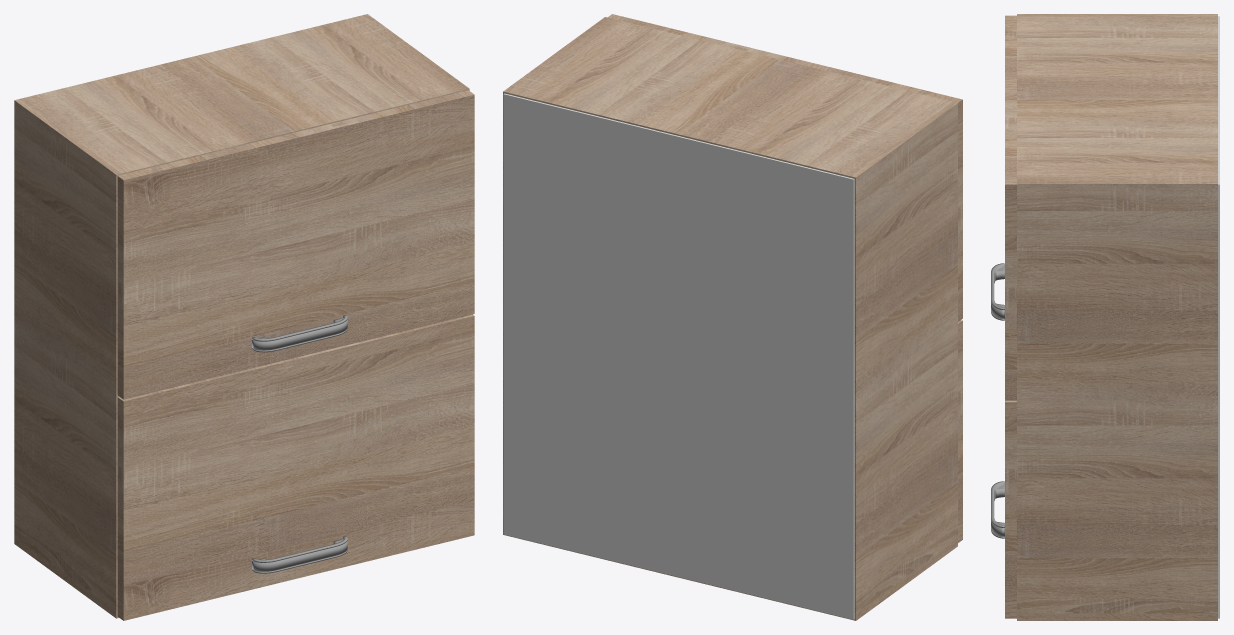
3 renders of one model, left to right at view 1: azimuth 30°, elevation 25°; view 2: azimuth 150°, elevation 25°; view 3: azimuth 270°, elevation 25°, orthographic.
Visible parts, largest first — view 1: s_f2f_72_60_korpusz, s_f2f_72_60_ajto_1, s_f2f_72_60_ajto_2, s_f2f_72_60_fogo_2, s_f2f_72_60_fogo_1; view 2: s_f2f_72_60_korpusz, s_f2f_72_60_ajto_1, s_f2f_72_60_ajto_2; view 3: s_f2f_72_60_korpusz, s_f2f_72_60_ajto_1, s_f2f_72_60_ajto_2, s_f2f_72_60_fogo_1, s_f2f_72_60_fogo_2.
Boxes of the visible parts, left/top/right/bottom form: s_f2f_72_60_korpusz: left=14, top=14, right=469, bottom=618; s_f2f_72_60_ajto_1: left=117, top=90, right=474, bottom=399; s_f2f_72_60_ajto_2: left=117, top=314, right=474, bottom=620; s_f2f_72_60_fogo_2: left=252, top=536, right=347, bottom=573; s_f2f_72_60_fogo_1: left=252, top=314, right=347, bottom=352; s_f2f_72_60_korpusz: left=503, top=17, right=957, bottom=620; s_f2f_72_60_ajto_1: left=607, top=14, right=962, bottom=321; s_f2f_72_60_ajto_2: left=958, top=320, right=962, bottom=542; s_f2f_72_60_korpusz: left=1017, top=14, right=1219, bottom=620; s_f2f_72_60_ajto_1: left=1005, top=15, right=1016, bottom=400; s_f2f_72_60_ajto_2: left=1005, top=400, right=1016, bottom=618; s_f2f_72_60_fogo_1: left=991, top=263, right=1004, bottom=320; s_f2f_72_60_fogo_2: left=991, top=481, right=1004, bottom=538.
Size of the model in its own units: 0.6 by 0.72 by 0.3418.
5 materials, 3 textured.
